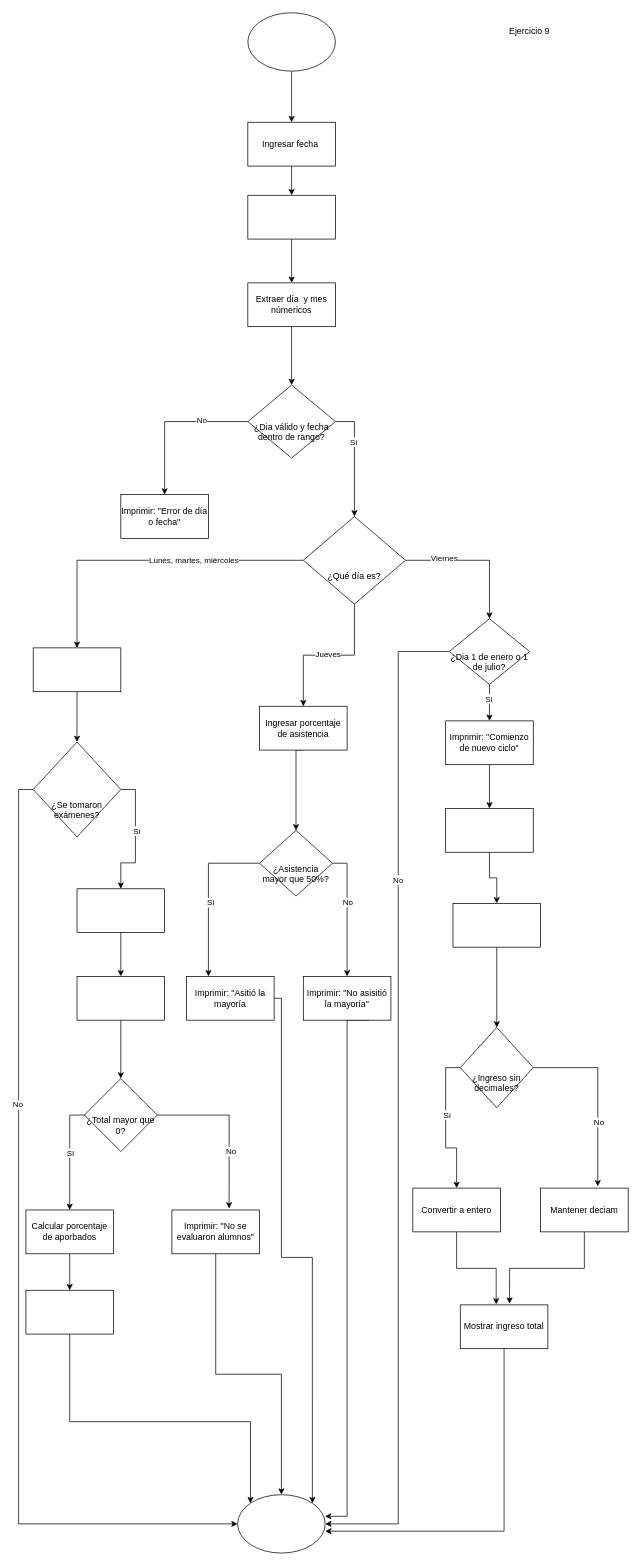
This 641x1566 diagram has some shape labels left out. Each missing label, with the box of its shape:
Calcular ingreso total: (452, 903, 541, 947)
Calcular total de alumnos: (76, 976, 165, 1020)
convertir entrada a minúsculas y separar dia y fecha: (247, 195, 335, 239)
Fin: (237, 1494, 325, 1553)
Imprimir:"Porcentaje": (25, 1290, 114, 1334)
Ingresar aprobados y no aprobados: (76, 888, 165, 933)
Ingresar cantidad de alumnos y arancel por alumno: (445, 808, 533, 852)
Inicio: (247, 12, 335, 71)
preguntar si se tomaron exámenes: (32, 647, 121, 692)
